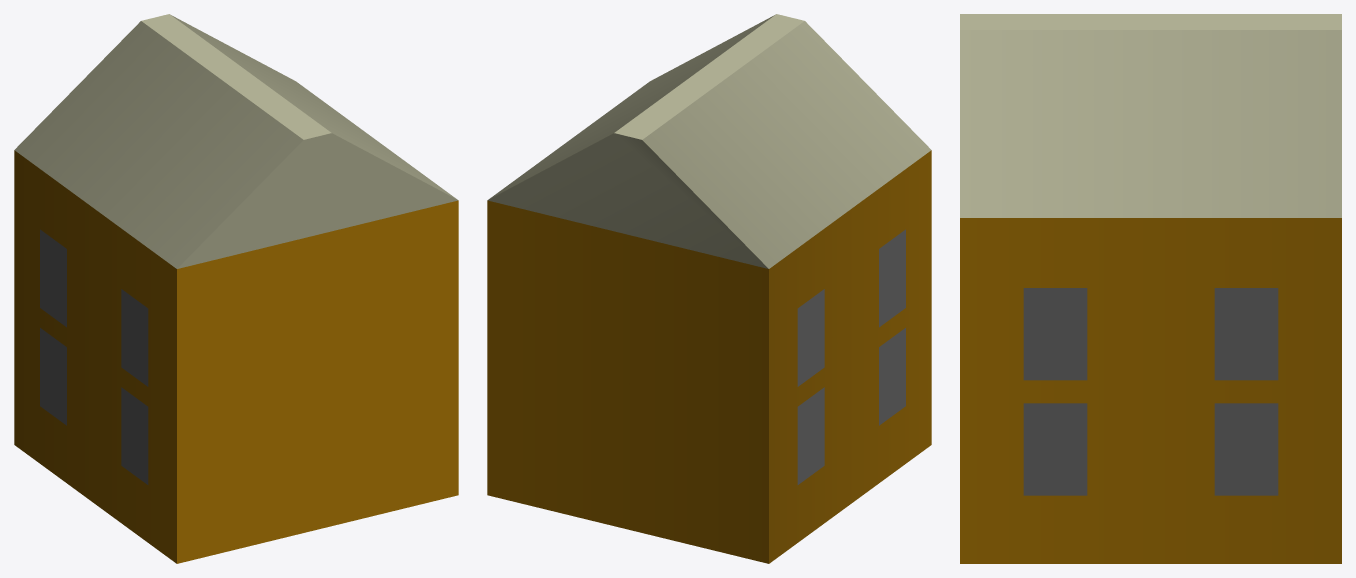
The model's file is building-19-high.glb.
3 renders of one model, left to right at view 1: azimuth 30°, elevation 25°; view 2: azimuth 150°, elevation 25°; view 3: azimuth 270°, elevation 25°, orthographic. The views are drawn at different scales.
Parts seen in each view (by area): view 1: mesh0; view 2: mesh0; view 3: mesh0.
Part boxes in pixels (x1=…): mesh0: x1=14, y1=14, x2=458, y2=563; mesh0: x1=487, y1=14, x2=931, y2=563; mesh0: x1=960, y1=14, x2=1341, y2=563.
Bounding box in the file's own units: 0.606 × 0.8 × 0.6.
